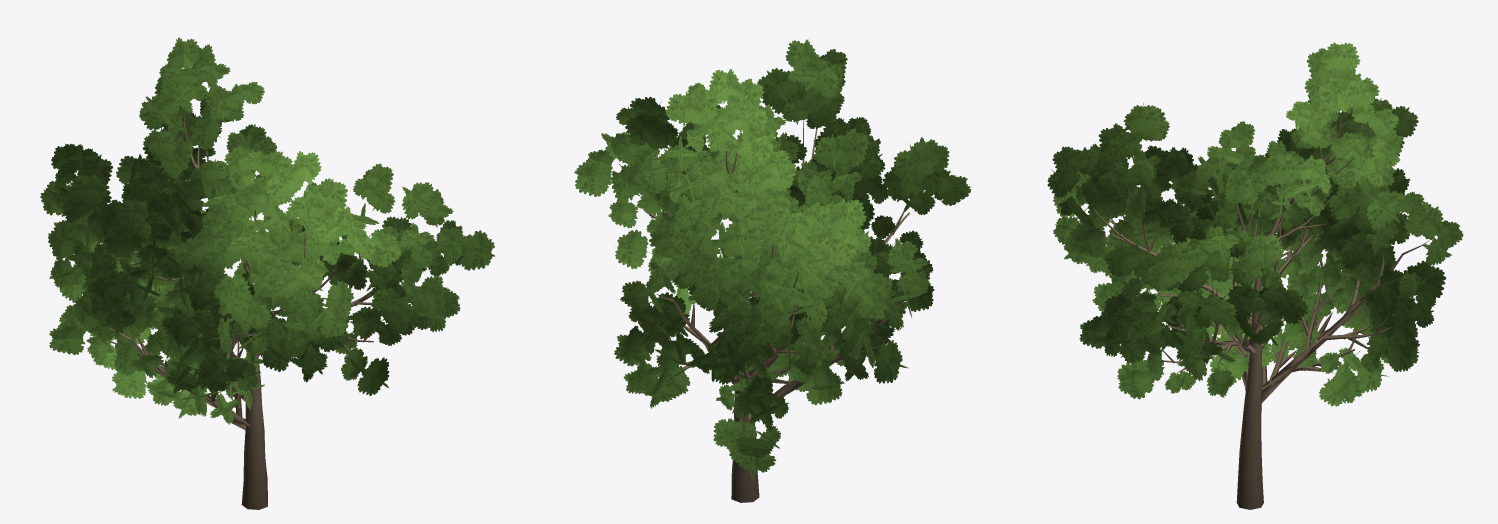
File: roble.glb
3 renders of one model, left to right at view 1: azimuth 30°, elevation 25°; view 2: azimuth 150°, elevation 25°; view 3: azimuth 270°, elevation 25°, orthographic. The views are drawn at different scales.
Parts seen in each view (by area): view 1: roble; view 2: roble; view 3: roble.
Boxes of the visible parts, left/top/right/bottom form: roble: left=40, top=37, right=494, bottom=509; roble: left=574, top=39, right=971, bottom=502; roble: left=1047, top=42, right=1463, bottom=509.
Bounding box in the file's own units: 14.56 × 15.44 × 13.92.
Materials: 2 (1 with a texture image).
